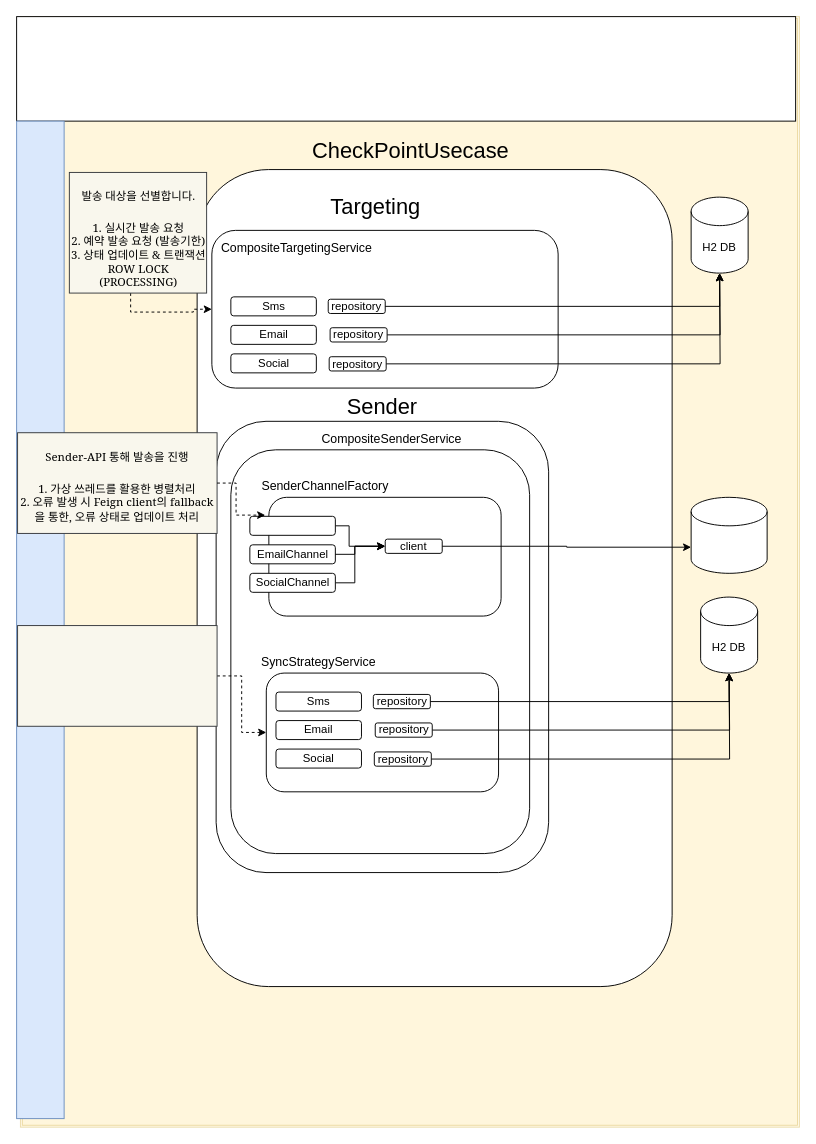
The diagram is 816 pixels wide and 1144 high, and some of its shapes have lost their labels. Here are the shapes that lost their labels. From the top down, the box of each, then its label:
(16, 16, 796, 121): notification-gateway-server 발송 검사 시나리오
(249, 515, 335, 535): SmsChannel
(690, 496, 767, 573): Sender-API
(17, 625, 217, 726): 발송 처리 이후의 상태 업데이트 1. Fegin fallback 2. ReadTimeout 3. Exception (기타)
